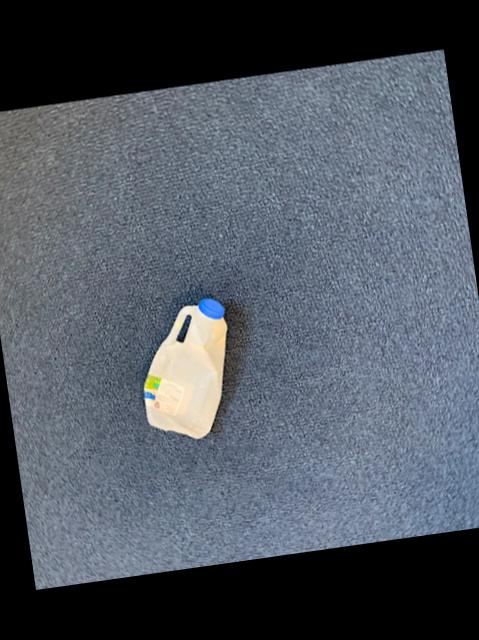plastic: (140, 298, 223, 438)
